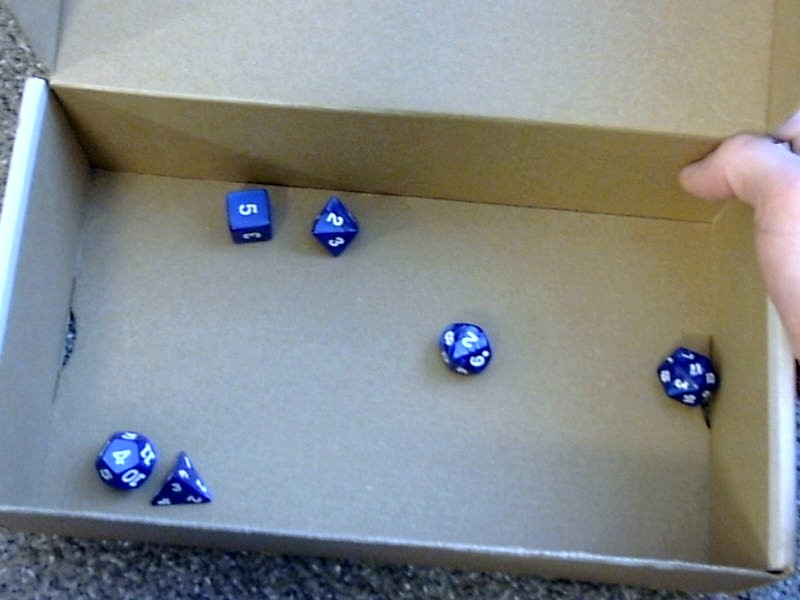d10 2: (431, 316, 495, 379)
d12 4: (88, 423, 158, 491)
d20 17: (641, 335, 724, 410)
d4 3: (157, 445, 212, 509)
d6 5: (218, 184, 275, 248)
d8 2: (309, 195, 358, 259)
